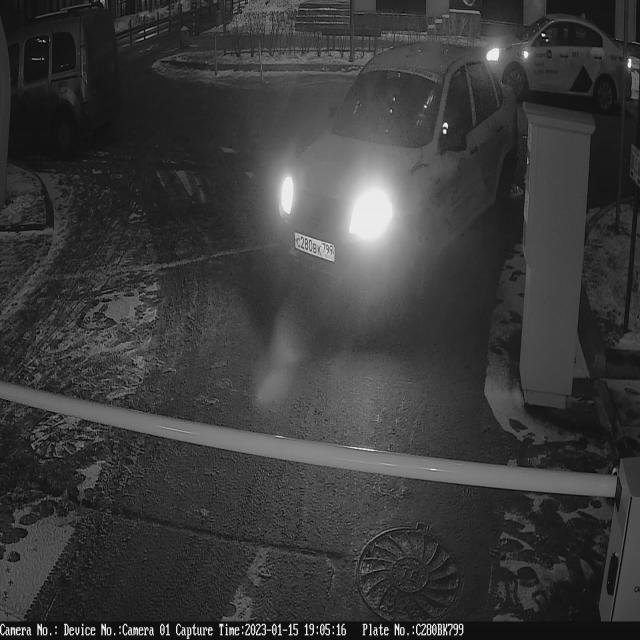car-plate-numbers: (294, 227, 339, 266)
